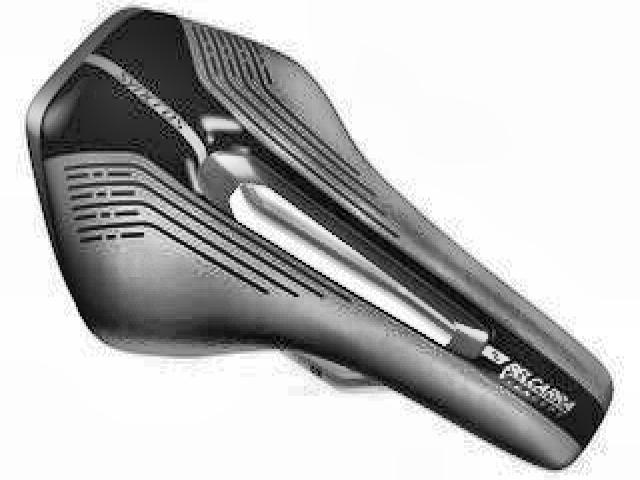saddle: (26, 5, 616, 472)
